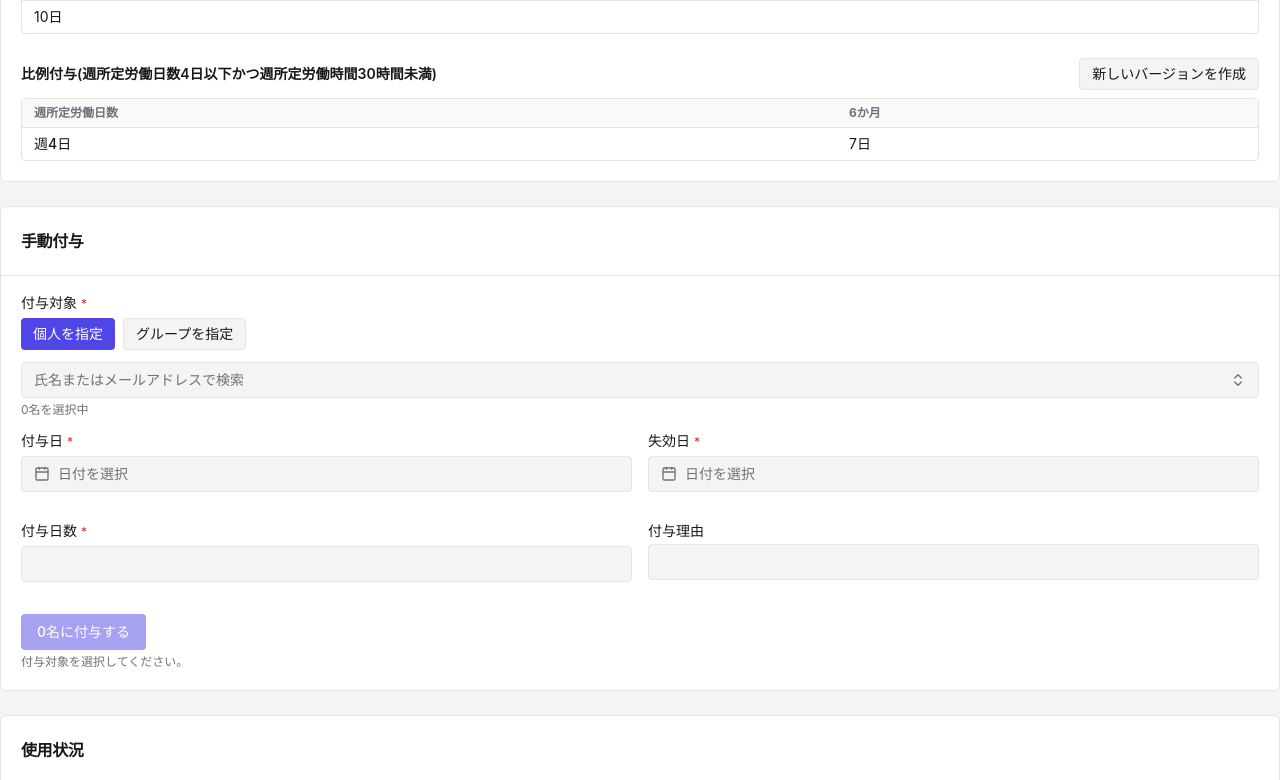
Test: PaidLeavePolicyPage › revoke button of the target user grants › disables revoking a grant that is not the latest, with a reason
The width and height of the screenshot is (1280, 780).
(page scrolled)
Step 1. Click the dropdown with id "grant-target-users" → (139, 380), box [21,362,1259,398]
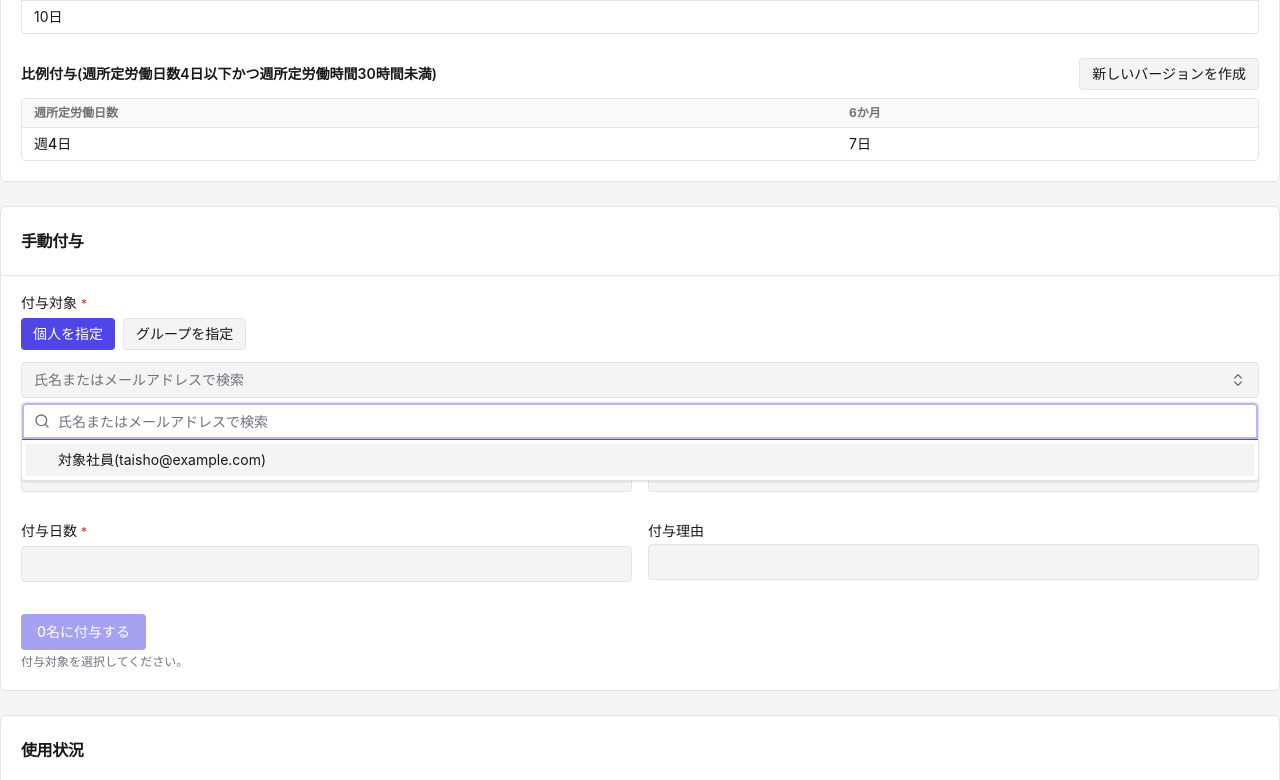
Step 2. Type "対象" into the 2nd dropdown with placeholder "氏名またはメールアドレスで検索" → (652, 421), box [58,403,1246,439]
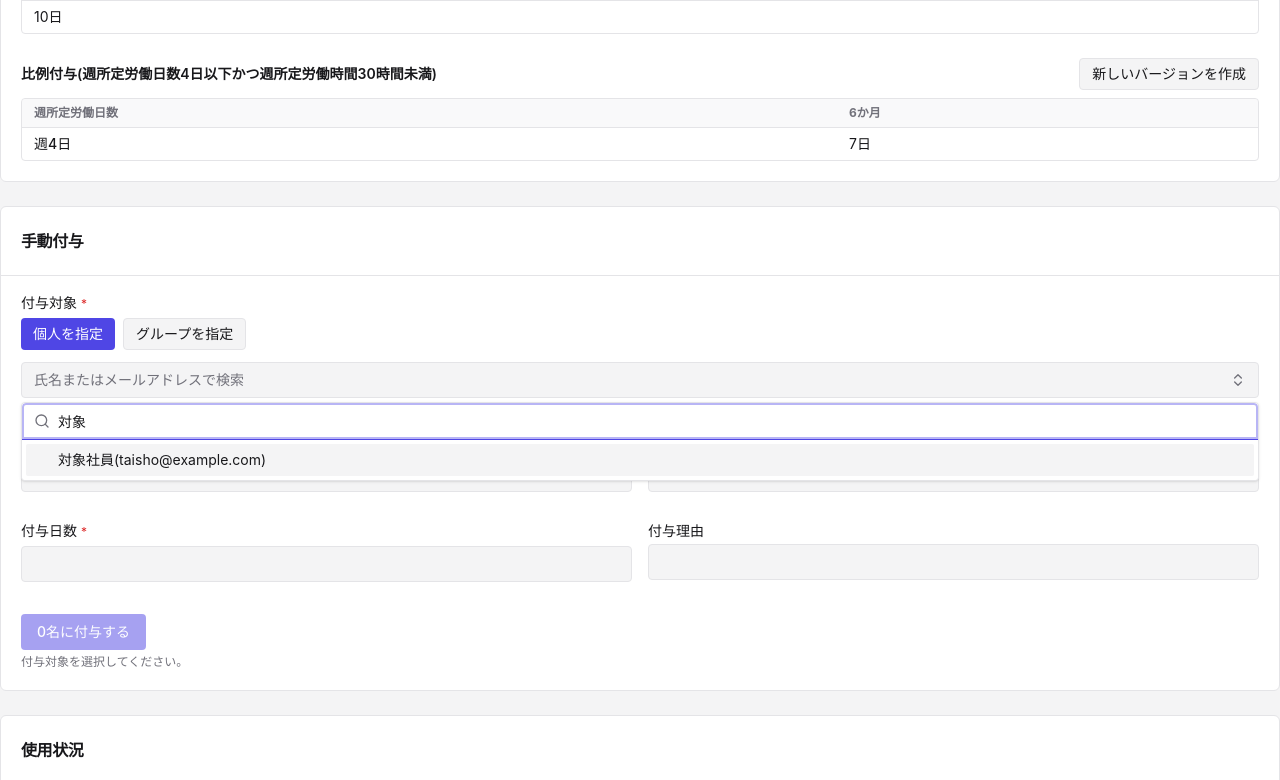
Step 3. Click the option "対象社員(taisho@example.com)" → (86, 460), box [26,444,1254,476]
(page scrolled)
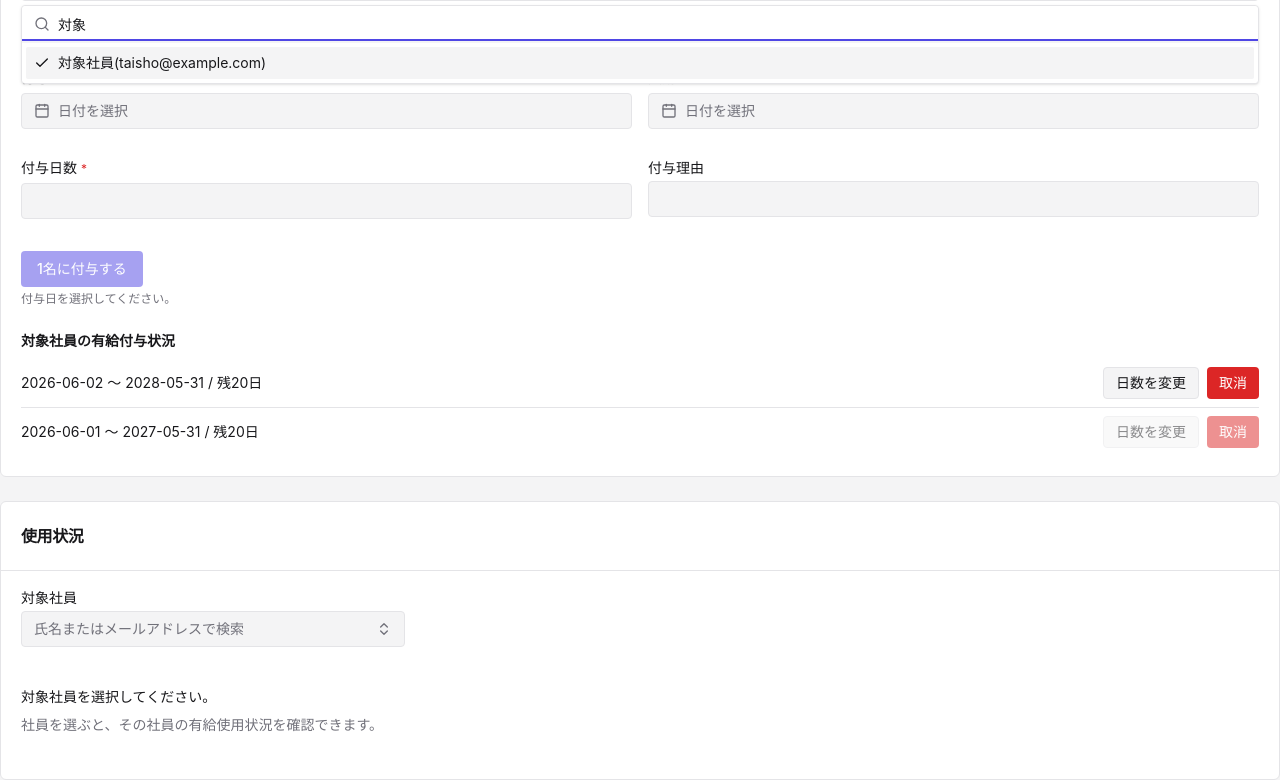
Expected: the heading "対象社員の有給付与状況" is shown, [21,332,175,349]
Expected: the number of buttons "取消" is 2, [1207,367,1259,399]; [1207,416,1259,448]
Expected: the button "取消" in the row of "2026-06-02" is enabled, [1207,367,1259,399]
